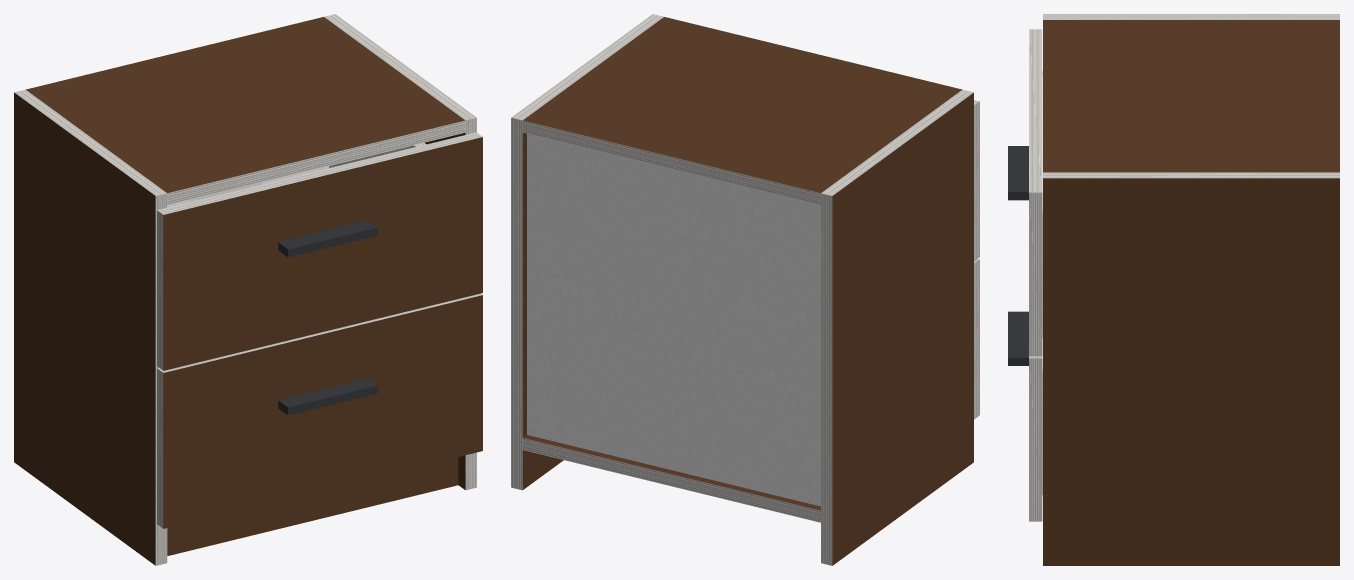
The model's file is ATL-NST-std.glb.
The picture shows the model from 3 angles, left to right: view 1: azimuth 30°, elevation 25°; view 2: azimuth 150°, elevation 25°; view 3: azimuth 270°, elevation 25°; orthographic projection. The views are drawn at different scales.
Parts seen in each view (by area): view 1: side-l:pbr, d1-front:pbr, d2-front:pbr, top:pbr, plinth:pbr, top:sheet:eyJtIjoicGx5Iiwic2lkZSI6ImVkZ2UtbG9uZyIsInNlZWQiOj, pull, d2-front:sheet:eyJtIjoicGx5Iiwic2lkZSI6ImVkZ2UtbG9uZyIsInNlZ, side-r:sheet:eyJtIjoicGx5Iiwic2lkZSI6ImVkZ2UtZW5kIiwic2VlZCI, side-l:sheet:eyJtIjoicGx5Iiwic2lkZSI6ImVkZ2UtZW5kIiwic2VlZCI, side-l:sheet:eyJtIjoicGx5Iiwic2lkZSI6ImVkZ2UtbG9uZyIsInNlZWQ, d1-front:sheet:eyJtIjoicGx5Iiwic2lkZSI6ImVkZ2UtZW5kIiwic2VlZ (+3 smaller); view 2: back:sheet:eyJtIjoibWRmIiwic2lkZSI6ImZhY2UiLCJzZWVkIjo0LCJ0a, side-l:pbr, top:pbr, side-r:sheet:eyJtIjoicGx5Iiwic2lkZSI6ImVkZ2UtbG9uZyIsInNlZWQ, side-l:sheet:eyJtIjoicGx5Iiwic2lkZSI6ImVkZ2UtbG9uZyIsInNlZWQ, bottom:sheet:eyJtIjoicGx5Iiwic2lkZSI6ImVkZ2UtbG9uZyIsInNlZWQ, top:sheet:eyJtIjoicGx5Iiwic2lkZSI6ImVkZ2UtbG9uZyIsInNlZWQiOj, side-r:pbr, side-l:sheet:eyJtIjoicGx5Iiwic2lkZSI6ImVkZ2UtZW5kIiwic2VlZCI, side-r:sheet:eyJtIjoicGx5Iiwic2lkZSI6ImVkZ2UtZW5kIiwic2VlZCI, bottom:pbr, d1-front:sheet:eyJtIjoicGx5Iiwic2lkZSI6ImVkZ2UtZW5kIiwic2VlZ (+1 smaller); view 3: side-r:pbr, top:pbr, pull, d2-front:sheet:eyJtIjoicGx5Iiwic2lkZSI6ImVkZ2UtZW5kIiwic2VlZ, d1-front:sheet:eyJtIjoicGx5Iiwic2lkZSI6ImVkZ2UtZW5kIiwic2VlZ, d2-front:sheet:eyJtIjoicGx5Iiwic2lkZSI6ImVkZ2UtbG9uZyIsInNlZ, side-r:sheet:eyJtIjoicGx5Iiwic2lkZSI6ImVkZ2UtZW5kIiwic2VlZCI, side-l:sheet:eyJtIjoicGx5Iiwic2lkZSI6ImVkZ2UtZW5kIiwic2VlZCI.
Boxes of the visible parts, box(x1,y1,x2,y2) form: side-l:pbr: box(14, 92, 155, 565); d1-front:pbr: box(163, 295, 482, 528); d2-front:pbr: box(163, 137, 482, 370); top:pbr: box(26, 17, 465, 193); plinth:pbr: box(167, 457, 458, 555); top:sheet:eyJtIjoicGx5Iiwic2lkZSI6ImVkZ2UtbG9uZyIsInNlZWQiOj: box(167, 120, 465, 205); pull: box(278, 220, 377, 415); d2-front:sheet:eyJtIjoicGx5Iiwic2lkZSI6ImVkZ2UtbG9uZyIsInNlZ: box(157, 132, 482, 214); side-r:sheet:eyJtIjoicGx5Iiwic2lkZSI6ImVkZ2UtZW5kIiwic2VlZCI: box(324, 14, 476, 120); side-l:sheet:eyJtIjoicGx5Iiwic2lkZSI6ImVkZ2UtZW5kIiwic2VlZCI: box(14, 89, 166, 195); side-l:sheet:eyJtIjoicGx5Iiwic2lkZSI6ImVkZ2UtbG9uZyIsInNlZWQ: box(155, 193, 167, 565); d1-front:sheet:eyJtIjoicGx5Iiwic2lkZSI6ImVkZ2UtZW5kIiwic2VlZ: box(157, 368, 163, 528); back:sheet:eyJtIjoibWRmIiwic2lkZSI6ImZhY2UiLCJzZWVkIjo0LCJ0a: box(527, 133, 820, 506); side-l:pbr: box(832, 93, 973, 565); top:pbr: box(523, 17, 962, 193); side-r:sheet:eyJtIjoicGx5Iiwic2lkZSI6ImVkZ2UtbG9uZyIsInNlZWQ: box(511, 117, 522, 490); side-l:sheet:eyJtIjoicGx5Iiwic2lkZSI6ImVkZ2UtbG9uZyIsInNlZWQ: box(821, 193, 832, 565); bottom:sheet:eyJtIjoicGx5Iiwic2lkZSI6ImVkZ2UtbG9uZyIsInNlZWQ: box(522, 438, 820, 522); top:sheet:eyJtIjoicGx5Iiwic2lkZSI6ImVkZ2UtbG9uZyIsInNlZWQiOj: box(522, 120, 820, 205); side-r:pbr: box(522, 133, 563, 489); side-l:sheet:eyJtIjoicGx5Iiwic2lkZSI6ImVkZ2UtZW5kIiwic2VlZCI: box(821, 89, 973, 195); side-r:sheet:eyJtIjoicGx5Iiwic2lkZSI6ImVkZ2UtZW5kIiwic2VlZCI: box(511, 14, 663, 120); bottom:pbr: box(523, 435, 820, 510); d1-front:sheet:eyJtIjoicGx5Iiwic2lkZSI6ImVkZ2UtZW5kIiwic2VlZ: box(974, 259, 979, 419); side-r:pbr: box(1043, 178, 1339, 565); top:pbr: box(1043, 20, 1339, 172); pull: box(1008, 146, 1028, 365); d2-front:sheet:eyJtIjoicGx5Iiwic2lkZSI6ImVkZ2UtZW5kIiwic2VlZ: box(1029, 192, 1042, 356); d1-front:sheet:eyJtIjoicGx5Iiwic2lkZSI6ImVkZ2UtZW5kIiwic2VlZ: box(1029, 358, 1042, 521); d2-front:sheet:eyJtIjoicGx5Iiwic2lkZSI6ImVkZ2UtbG9uZyIsInNlZ: box(1029, 29, 1042, 192); side-r:sheet:eyJtIjoicGx5Iiwic2lkZSI6ImVkZ2UtZW5kIiwic2VlZCI: box(1043, 172, 1339, 178); side-l:sheet:eyJtIjoicGx5Iiwic2lkZSI6ImVkZ2UtZW5kIiwic2VlZCI: box(1043, 14, 1339, 19).
Size of the model in its own units: 0.5 by 0.55 by 0.4267.
55 materials, 47 textured.
